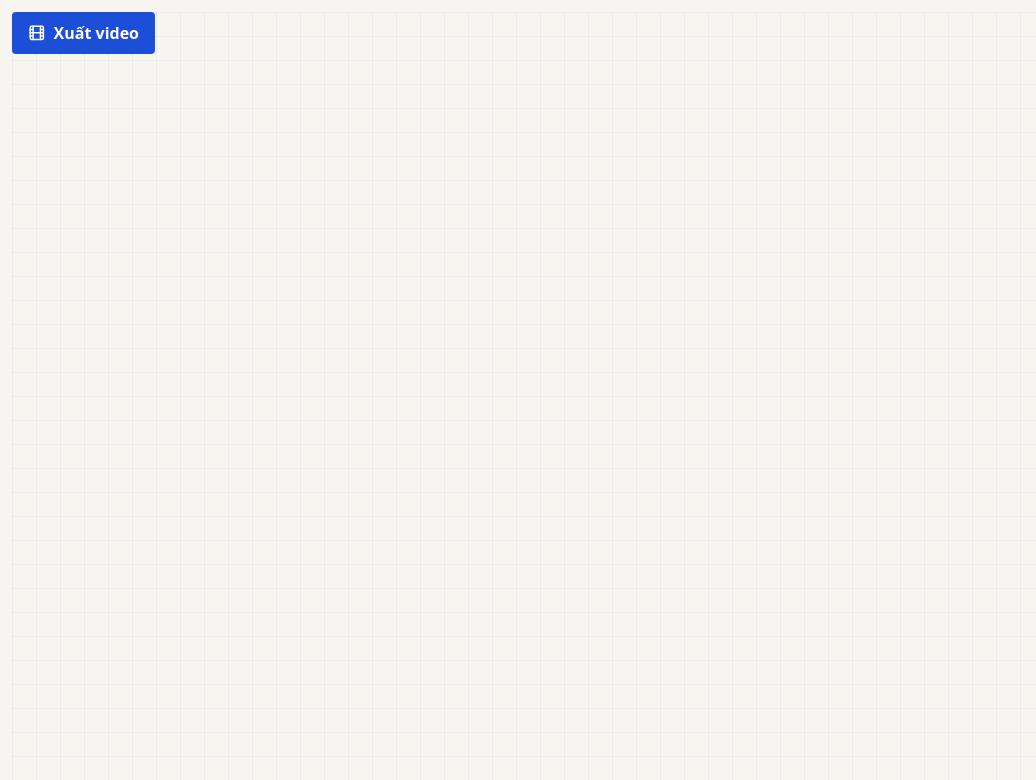
Test: ExportControls › xuất bằng WebCodecs: hiện tiến độ, tải tệp MP4 về và báo dung lượng
The width and height of the screenshot is (1036, 780).
Later steps or results of the test are not shown.
Click the button "Xuất video" at (84, 33), box [12,12,155,54]
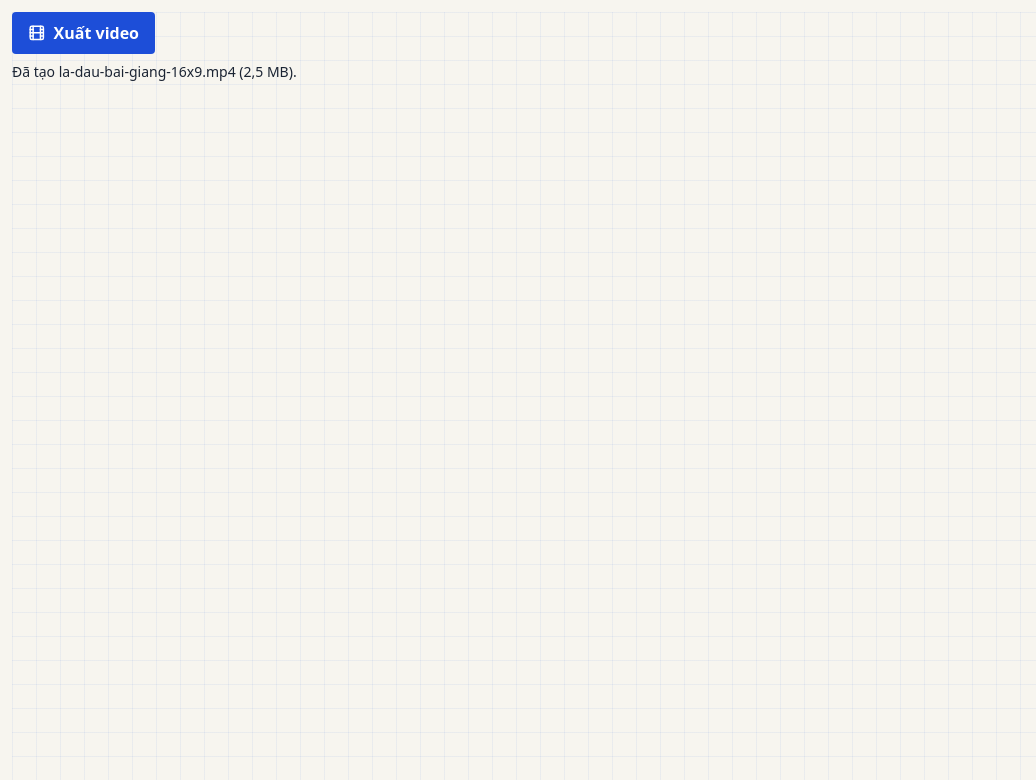
Check: the text "Đã tạo la-dau-bai-giang-16x9.mp4 (2,5 MB)." is shown, box [12,62,297,81]
